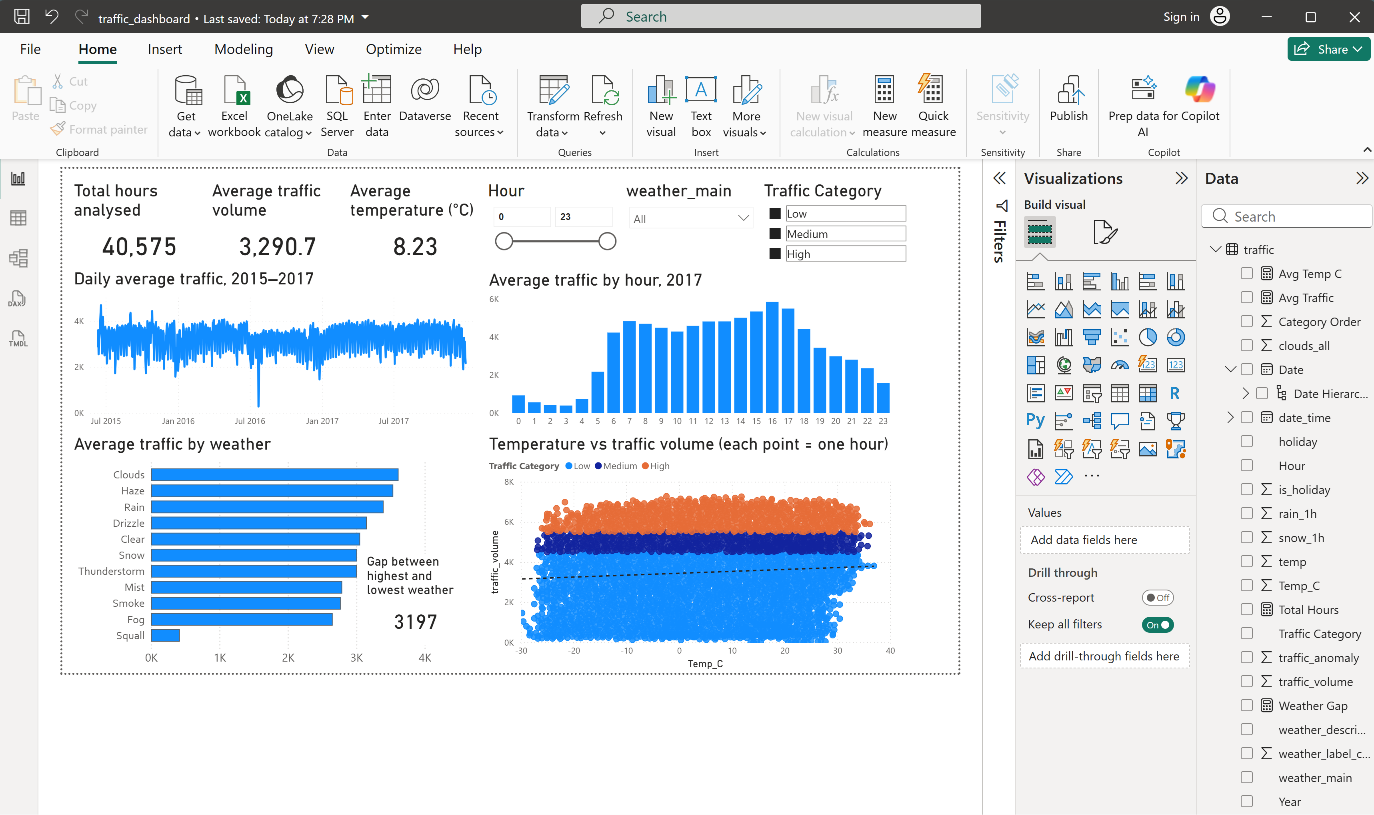

The page's visual inventory and layout, read from the dashboard file:
{"tool":"powerbi","page":{"name":"Page 1","canvas":[1280,720],"ordinal":0},"visuals":[{"type":"card","title":"Total hours analysed","fields":{"Values":["traffic.Total Hours"]},"box":[11.4,17.1,197.1,125.7],"z":0},{"type":"card","title":"Average traffic volume","fields":{"Values":["traffic.Avg Traffic"]},"box":[208.6,17.1,197.1,125.7],"z":1000},{"type":"card","title":"Average temperature (°C)","fields":{"Values":["traffic.Avg Temp C"]},"box":[405.7,17.1,197.1,125.7],"z":2000},{"type":"slicer","title":"Hour","fields":{"Values":["traffic.Hour"]},"box":[602.9,17.1,197.1,125.7],"z":3000},{"type":"slicer","title":"weather_main","fields":{"Values":["traffic.weather_main"]},"box":[800,17.1,197.1,125.7],"z":4000},{"type":"slicer","title":"Traffic Category","fields":{"Values":["traffic.Traffic Category"]},"box":[996.7,16.7,213.3,126.7],"z":5000},{"type":"lineChart","title":"Daily average traffic, 2015–2017","fields":{"Y":["traffic.Avg Traffic"],"Category":["traffic.Date"]},"box":[11.4,142.9,591.4,235.7],"z":6000},{"type":"clusteredColumnChart","title":"Average traffic by hour, 2017","fields":{"Category":["traffic.Hour"],"Y":["traffic.Avg Traffic"]},"box":[604.3,144.3,591.4,234.3],"z":7000},{"type":"clusteredBarChart","title":"Average traffic by weather","fields":{"Category":["traffic.weather_main"],"Y":["traffic.Avg Traffic"]},"box":[11.4,378.6,520,341.4],"z":8000},{"type":"scatterChart","title":"Temperature vs traffic volume (each point = one hour)","fields":{"X":["traffic.Temp_C"],"Y":["traffic.traffic_volume"],"Series":["traffic.Traffic Category"]},"box":[604.3,378.6,590,341.4],"z":9000},{"type":"card","title":"Gap between highest and lowest weather","fields":{"Values":["traffic.Weather Gap"]},"box":[430,550,148.6,130],"z":9001}]}

Visuals, with their boxes on the page's 1280x720 design canvas (x1, y1, x2, y2). These are canvas units, not pixel positions in the 1374x815 screenshot, which may show the page scaled, cropped or inside an application window:
"Total hours analysed" card: pyautogui.locateOnScreen(11, 17, 208, 143)
"Average traffic volume" card: pyautogui.locateOnScreen(209, 17, 406, 143)
"Average temperature (°C)" card: pyautogui.locateOnScreen(406, 17, 603, 143)
"Hour" slicer: pyautogui.locateOnScreen(603, 17, 800, 143)
"weather_main" slicer: pyautogui.locateOnScreen(800, 17, 997, 143)
"Traffic Category" slicer: pyautogui.locateOnScreen(997, 17, 1210, 143)
"Daily average traffic, 2015–2017" lineChart: pyautogui.locateOnScreen(11, 143, 603, 379)
"Average traffic by hour, 2017" clusteredColumnChart: pyautogui.locateOnScreen(604, 144, 1196, 379)
"Average traffic by weather" clusteredBarChart: pyautogui.locateOnScreen(11, 379, 531, 720)
"Temperature vs traffic volume (each point = one hour)" scatterChart: pyautogui.locateOnScreen(604, 379, 1194, 720)
"Gap between highest and lowest weather" card: pyautogui.locateOnScreen(430, 550, 579, 680)
